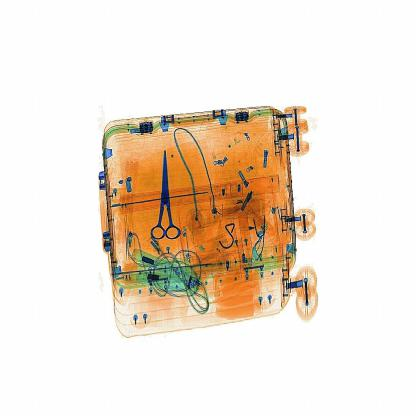gun: (139, 137, 192, 248)
